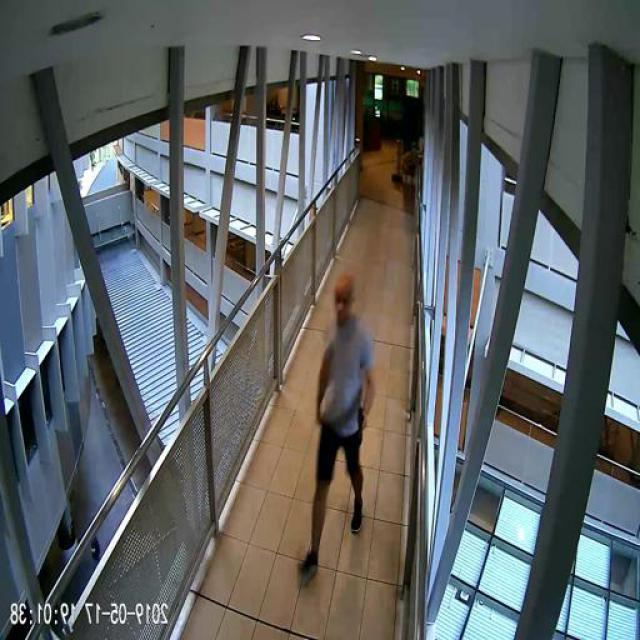Gun: (358, 405, 368, 444)
